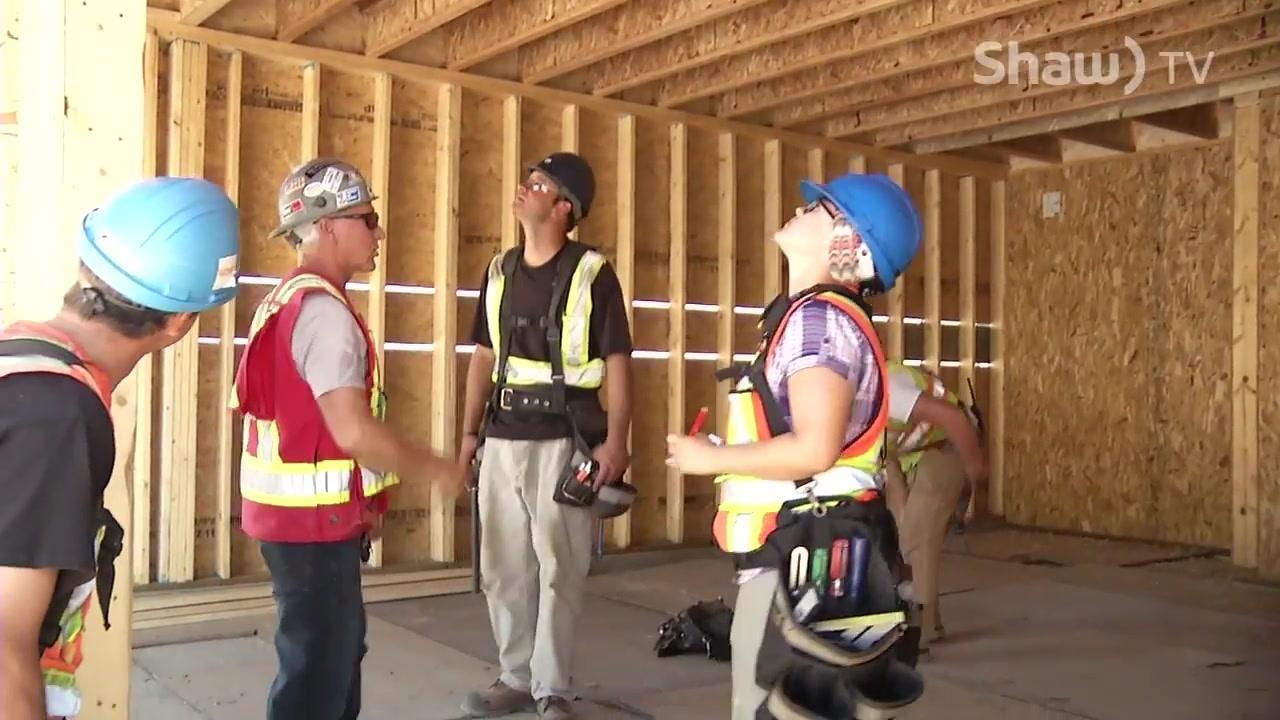vest: (0, 308, 117, 719), (711, 287, 888, 553), (223, 273, 401, 534), (482, 243, 606, 391), (892, 356, 960, 473)
